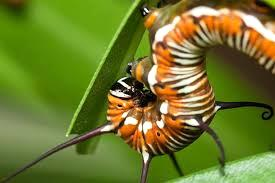Caterpillar: (86, 0, 275, 183)
